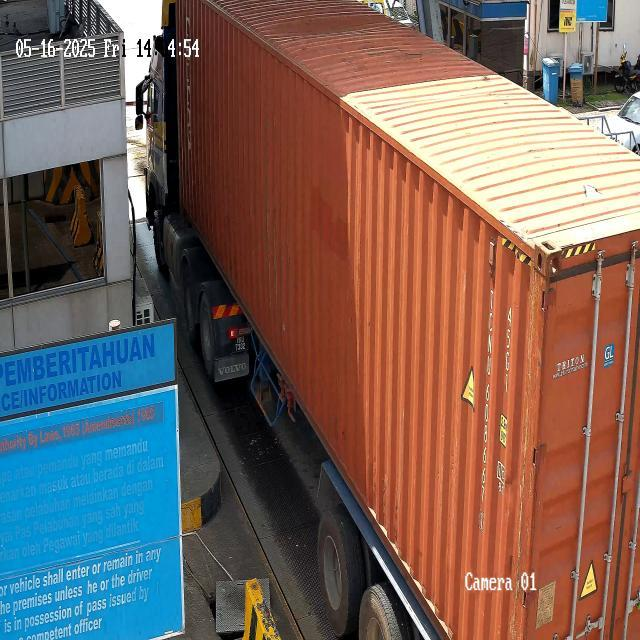ISO: (502, 304, 516, 403)
container_number: (470, 277, 500, 544)
